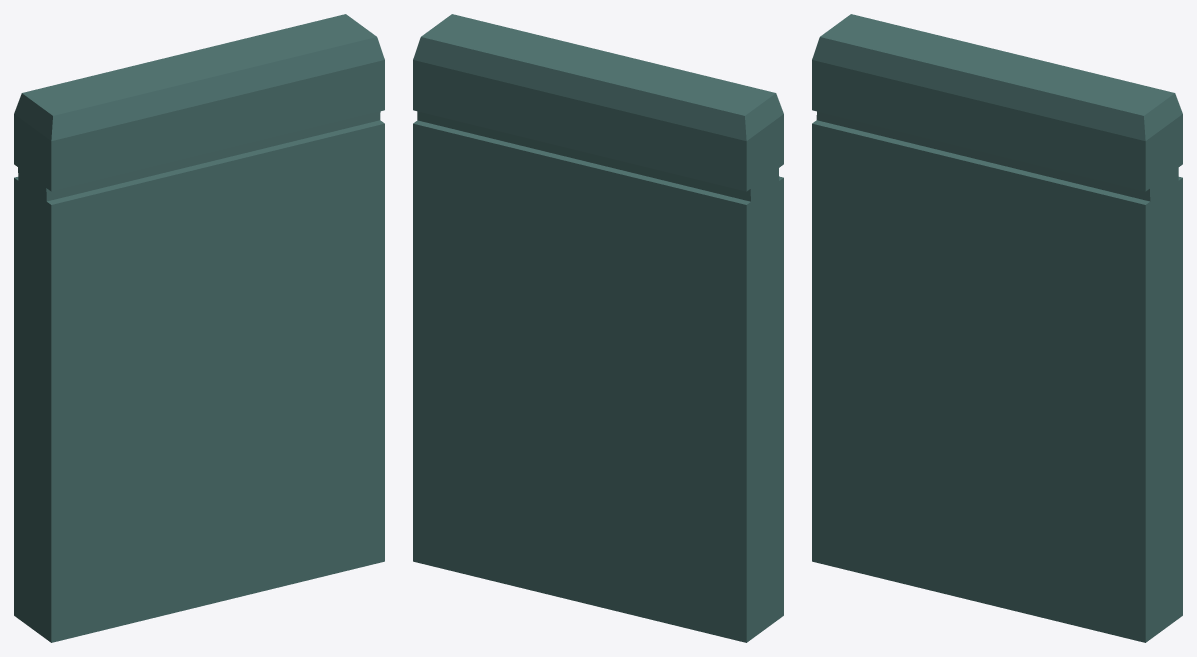
File: Stone_Walls(short).FBX
The picture shows the model from 3 angles, left to right: view 1: azimuth 30°, elevation 25°; view 2: azimuth 150°, elevation 25°; view 3: azimuth 330°, elevation 25°; orthographic projection.
Parts seen in each view (by area): view 1: Box028; view 2: Box028; view 3: Box028.
Part boxes in pixels (x1=…): Box028: x1=14, y1=14, x2=384, y2=642; Box028: x1=413, y1=14, x2=783, y2=642; Box028: x1=812, y1=14, x2=1182, y2=642.
Bounding box in the file's own units: 5.5 × 8.26 × 1.07.
